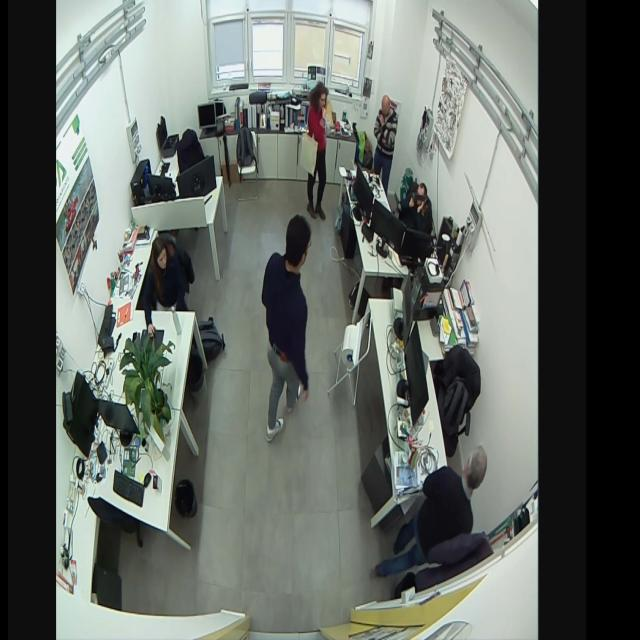Persona: (373, 442, 489, 580), (260, 214, 313, 446), (142, 236, 183, 337), (304, 77, 332, 222), (372, 92, 399, 177)
